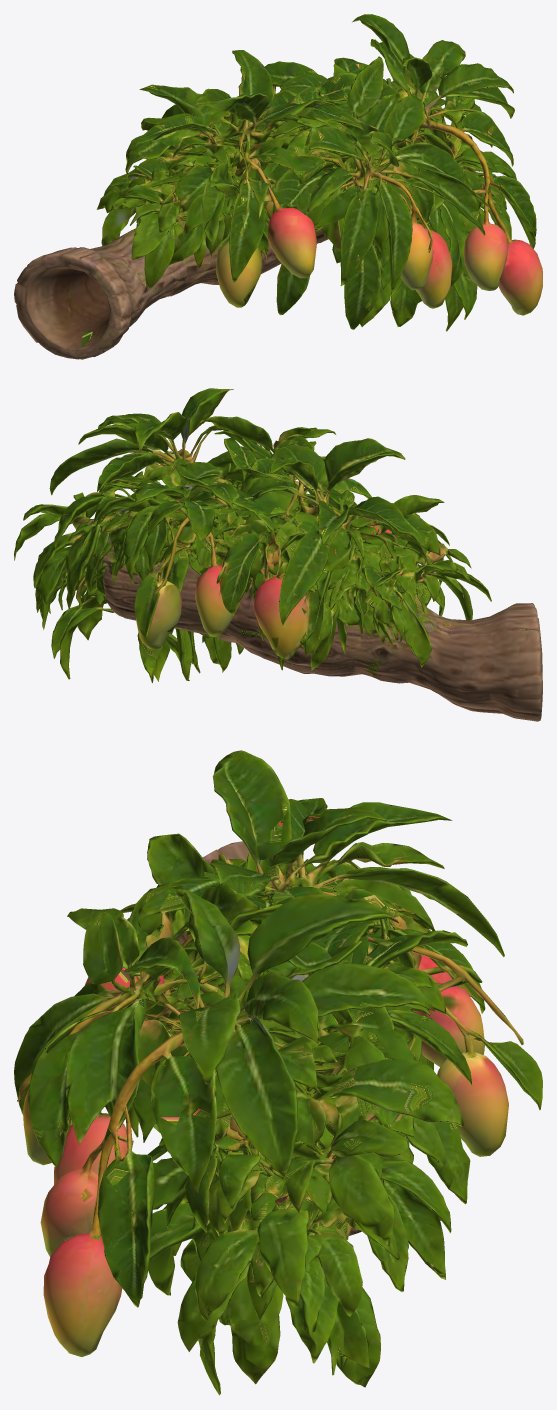
File: branch_mango.glb
3 renders of one model, top to bottom at view 1: azimuth 30°, elevation 25°; view 2: azimuth 150°, elevation 25°; view 3: azimuth 270°, elevation 25°, orthographic. The views are drawn at different scales.
Size of the model in its own units: 1.9 by 1.07 by 1.1.
Materials: 1 (1 with a texture image).
